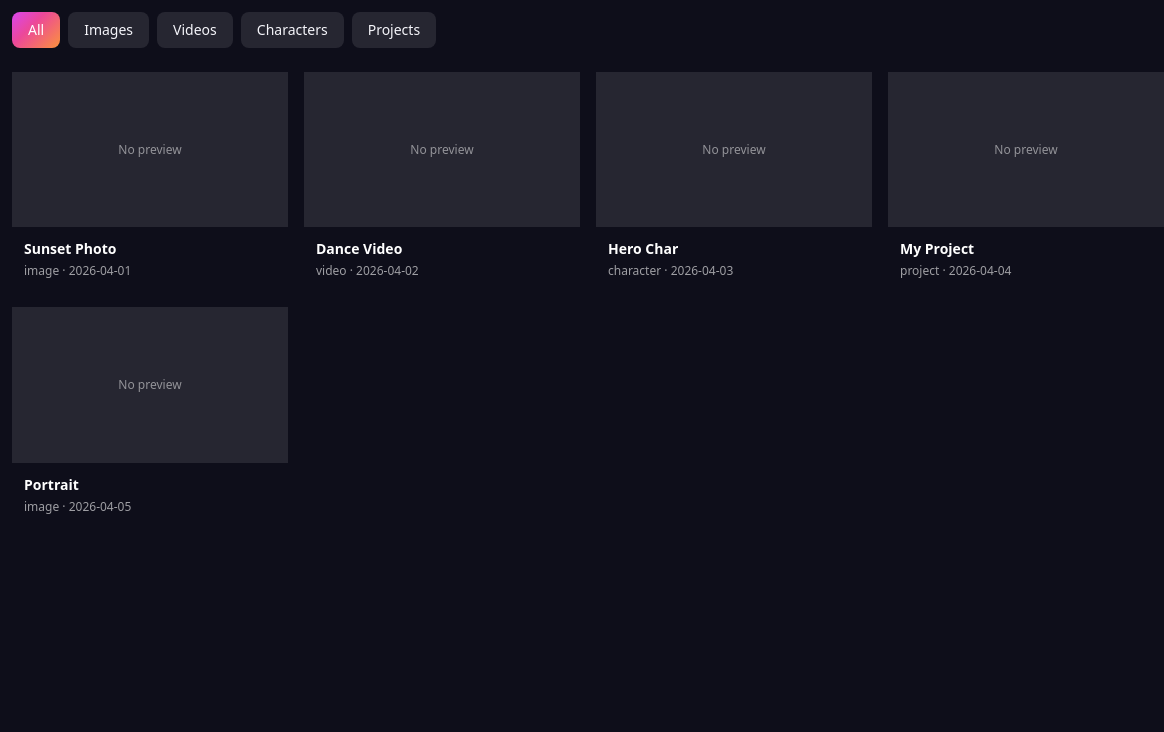
LibraryTabs › filters to only videos when Videos tab clicked
This screenshot has width=1164, height=732.
Click the tab "Videos".
click(195, 30)  # box [157,12,233,48]
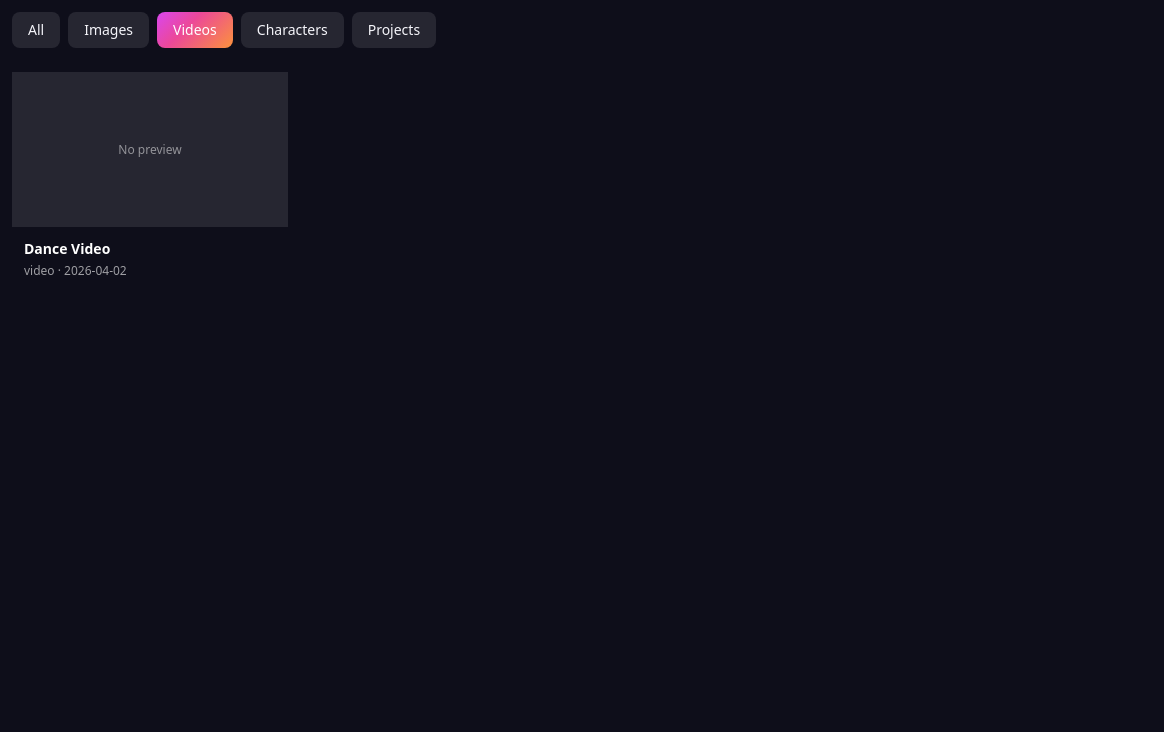
Expected: the text "Dance Video" is shown, [24,239,110,258]
Expected: the link "Sunset Photo" is gone
